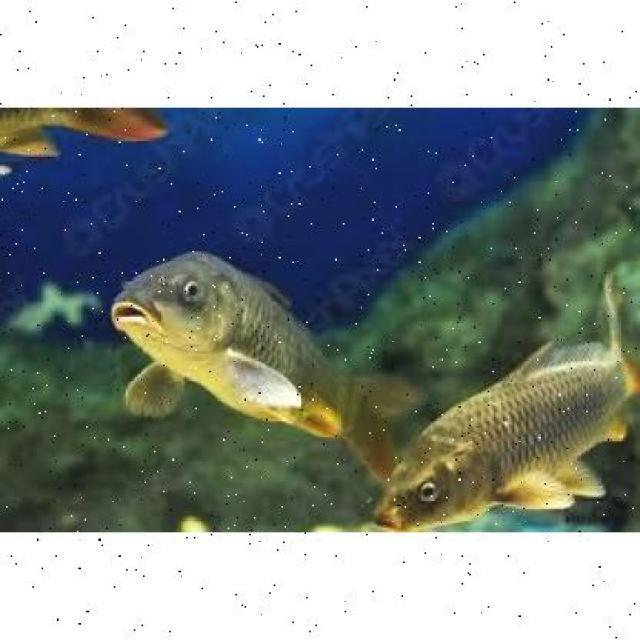ikan-mas: (112, 244, 390, 470), (374, 301, 634, 530)
